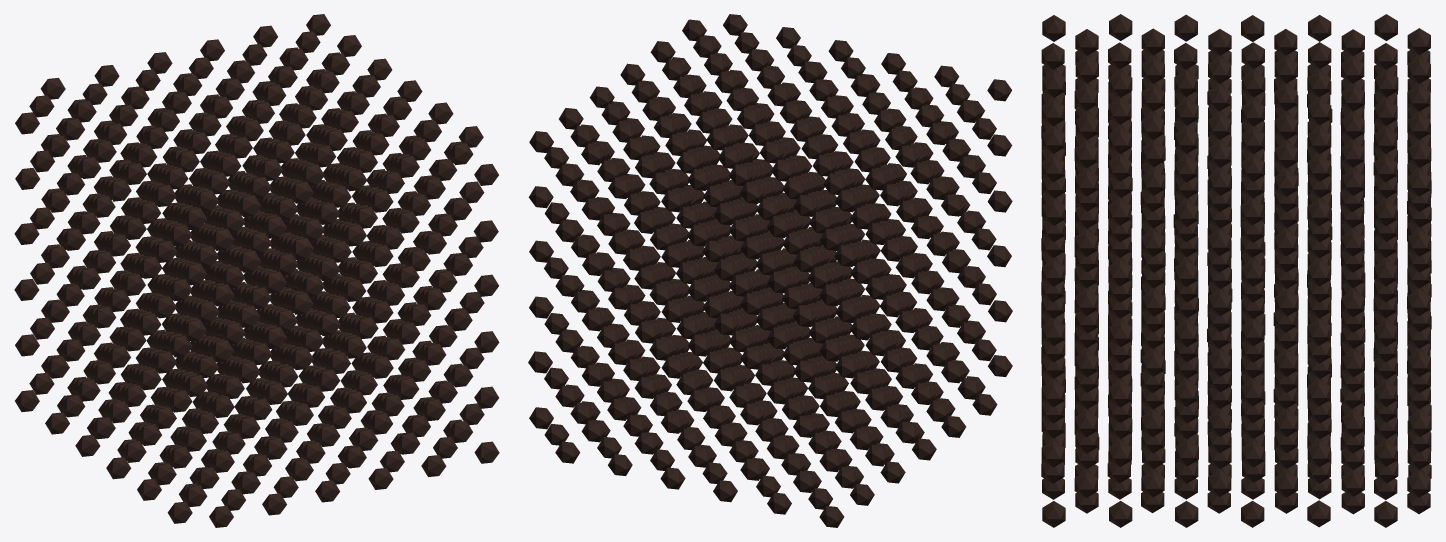
The model's file is research_au.glb.
3 views of the same model, side by side, from view 1: azimuth 30°, elevation 25°; view 2: azimuth 150°, elevation 25°; view 3: azimuth 270°, elevation 25° (orthographic). The views are drawn at different scales.
Size of the model in its own units: 23.97 by 23.98 by 23.95.
